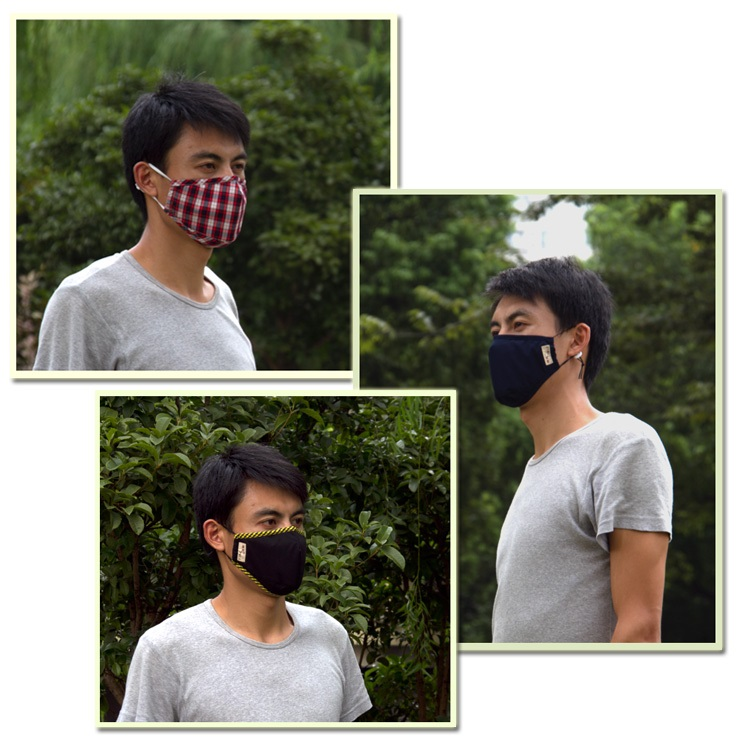face_mask: (163, 119, 249, 242), (228, 480, 308, 586), (487, 291, 566, 395)
